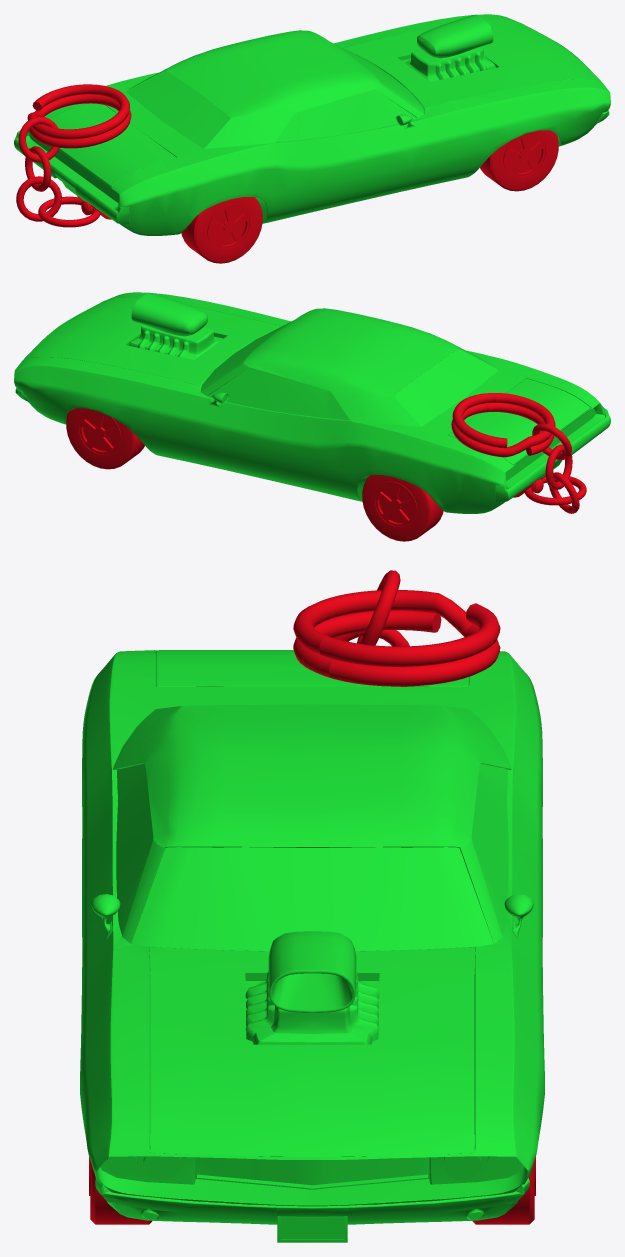
Rendered from dodge_IG.fbx.
3 views of the same model, one above another, from view 1: azimuth 30°, elevation 25°; view 2: azimuth 150°, elevation 25°; view 3: azimuth 270°, elevation 25° (orthographic). The views are drawn at different scales.
Parts seen in each view (by area): view 1: doge_chassis, doge_roue_ar_d, doge_roue_av_d; view 2: doge_chassis, doge_roue_ar_g, doge_roue_av_g; view 3: doge_chassis, doge_roue_av_g, doge_roue_av_d.
Part boxes in pixels (x1=…): doge_chassis: x1=14, y1=14, x2=610, y2=235; doge_roue_ar_d: x1=181, y1=197, x2=262, y2=263; doge_roue_av_d: x1=480, y1=130, x2=558, y2=191; doge_chassis: x1=14, y1=292, x2=610, y2=513; doge_roue_ar_g: x1=362, y1=475, x2=443, y2=541; doge_roue_av_g: x1=66, y1=408, x2=144, y2=469; doge_chassis: x1=80, y1=570, x2=544, y2=1242; doge_roue_av_g: x1=472, y1=1156, x2=535, y2=1224; doge_roue_av_d: x1=89, y1=1156, x2=152, y2=1224.
Size of the model in its own units: 4.5 by 1.08 by 1.69.
